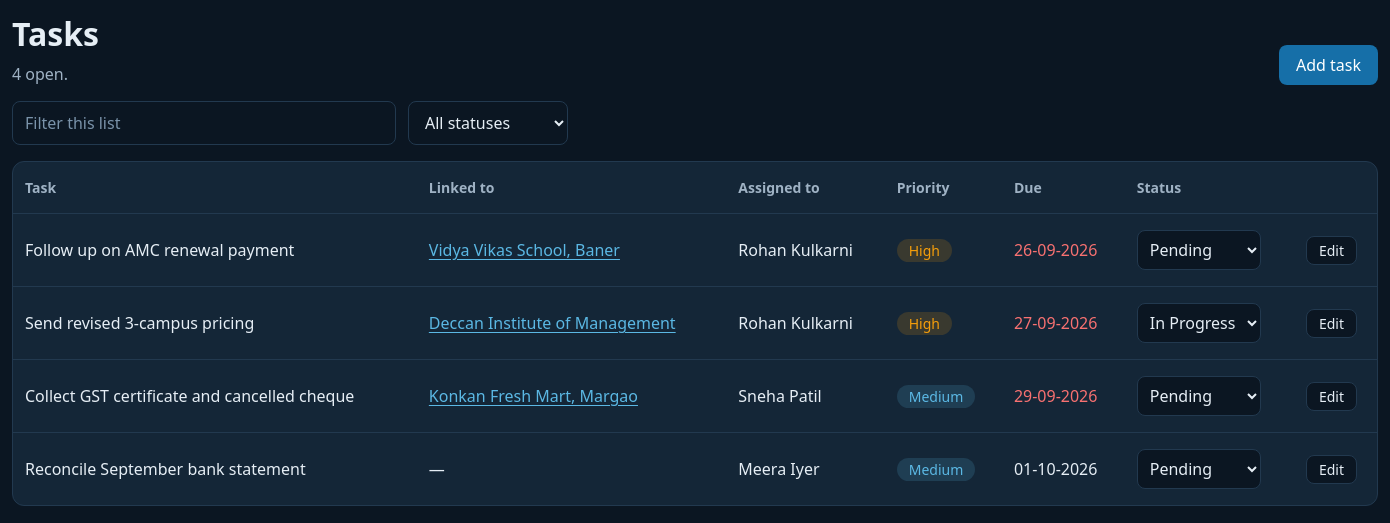
Scenario: TasksPanel › marks a task done from its status menu
The image size is (1390, 523).
Select "Done" in the dropdown named "Status of Send revised 3-campus pricing" in the row of "Send revised 3-campus pricing" at (1199, 323), box [1137, 303, 1261, 343]
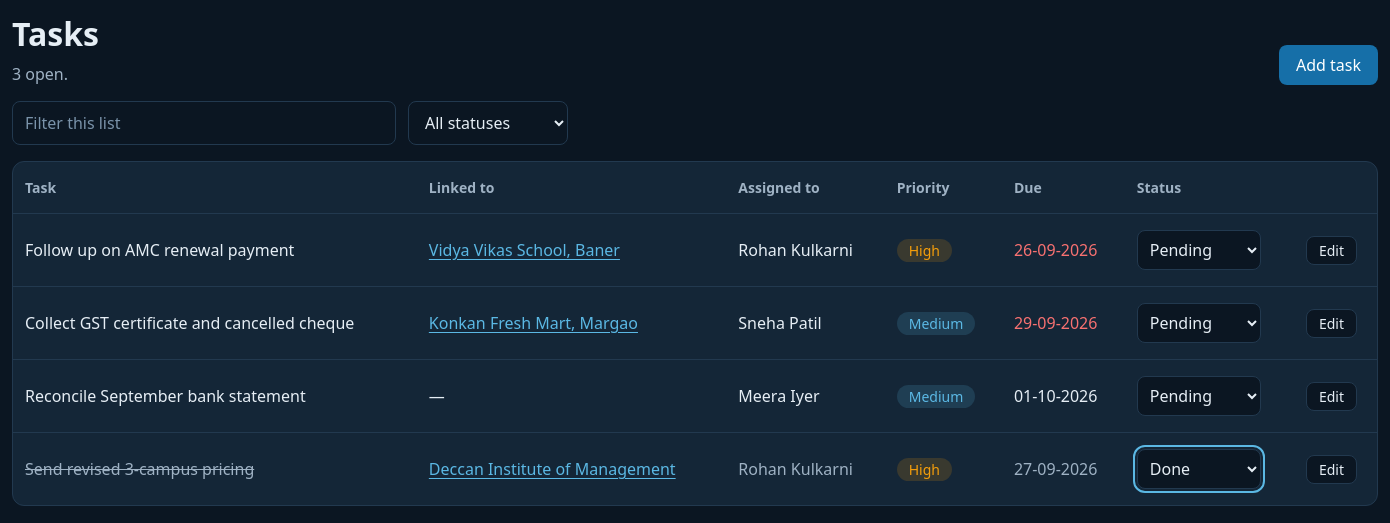
Expected: the row "Send revised 3-campus pricing" does not show "overdue", [13, 432, 1377, 505]
Now the text "3 open." is shown, box [12, 63, 68, 85]
